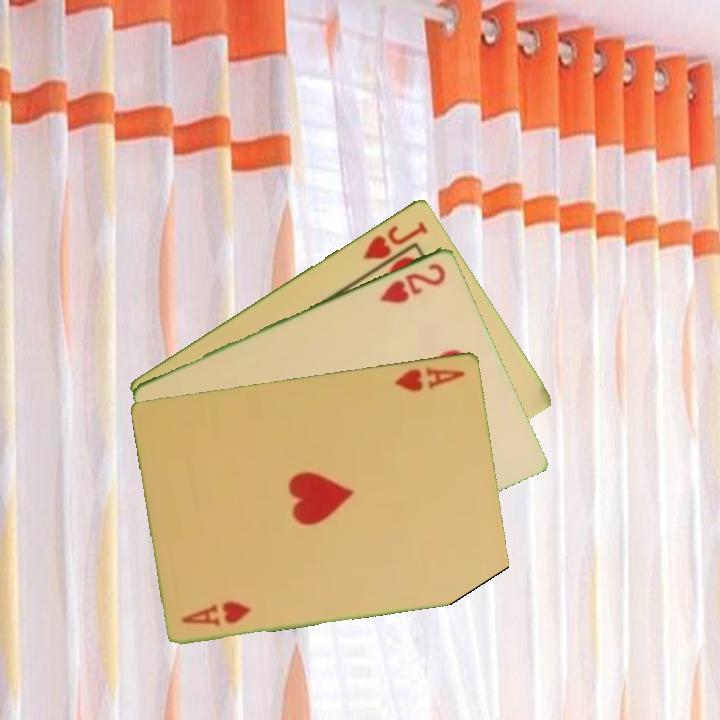2h: (375, 258, 449, 306)
Ah: (179, 597, 255, 629), (391, 363, 468, 394)
Jh: (359, 217, 431, 262)
